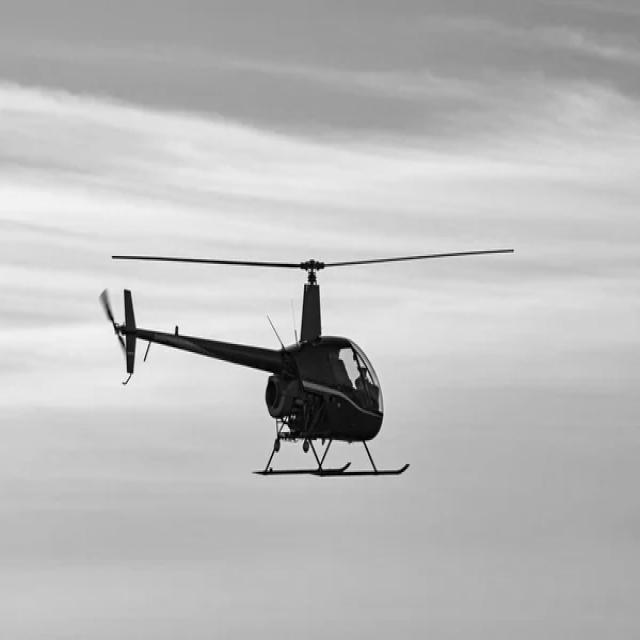Helicopter: (99, 248, 514, 478)
